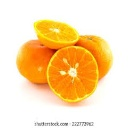orange: (45, 45, 100, 104), (14, 38, 60, 84), (79, 34, 113, 80), (32, 20, 79, 51)
